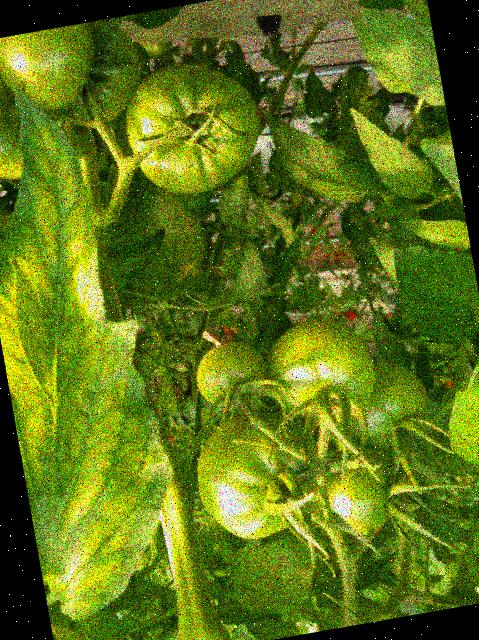b_green: (116, 51, 270, 203), (187, 402, 332, 547), (259, 312, 384, 441), (41, 14, 150, 133), (326, 355, 435, 457), (0, 21, 105, 120), (312, 441, 398, 542), (190, 336, 274, 418), (0, 80, 31, 183)
